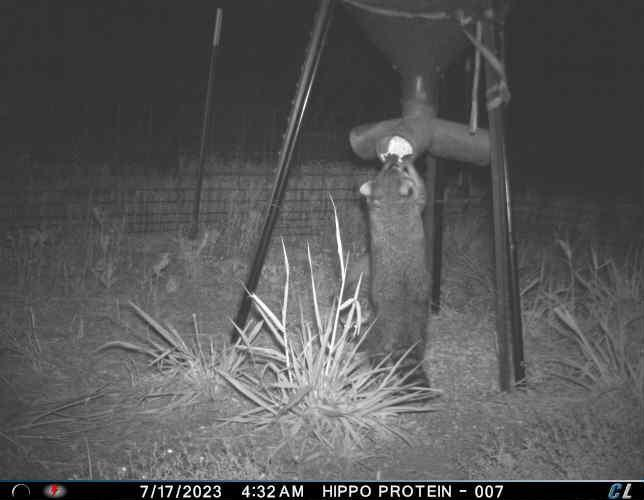Raccoon: (358, 154, 434, 398)
